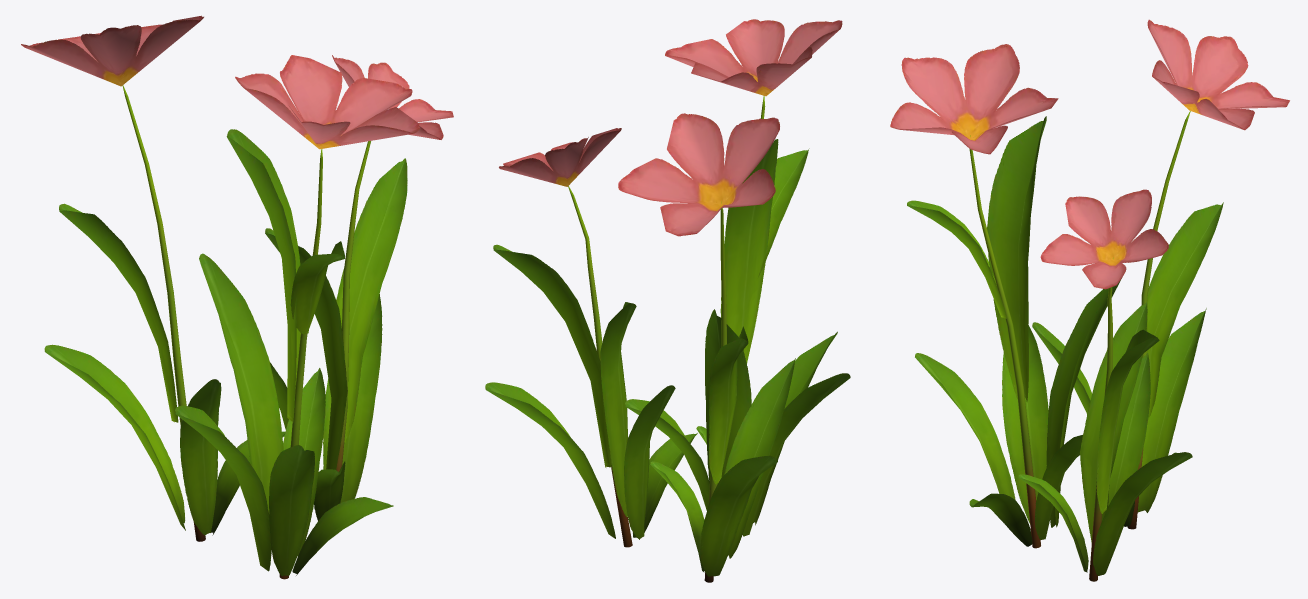
The model's file is Flower_3_Group.glb.
3 renders of one model, left to right at view 1: azimuth 30°, elevation 25°; view 2: azimuth 150°, elevation 25°; view 3: azimuth 270°, elevation 25°, orthographic. The views are drawn at different scales.
Visible parts, largest first — view 1: Flower_3_Group; view 2: Flower_3_Group; view 3: Flower_3_Group.
Part boxes in pixels (x1=…): Flower_3_Group: x1=21, y1=15, x2=453, y2=579; Flower_3_Group: x1=485, y1=19, x2=850, y2=582; Flower_3_Group: x1=890, y1=19, x2=1289, y2=581.
Size of the model in its own units: 1.49 by 2.05 by 1.59.
Materials: 2 (2 with a texture image).
